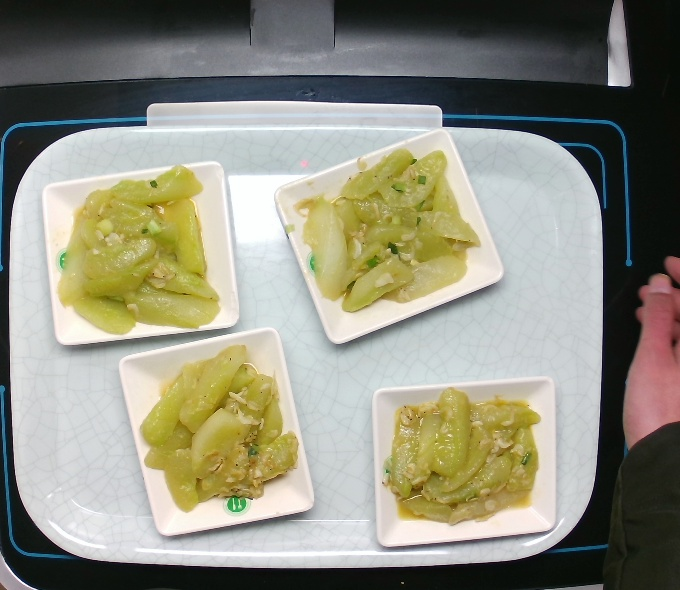wcq-HuangGua: (134, 338, 311, 516), (296, 147, 483, 315), (54, 166, 221, 333), (382, 384, 545, 529)
